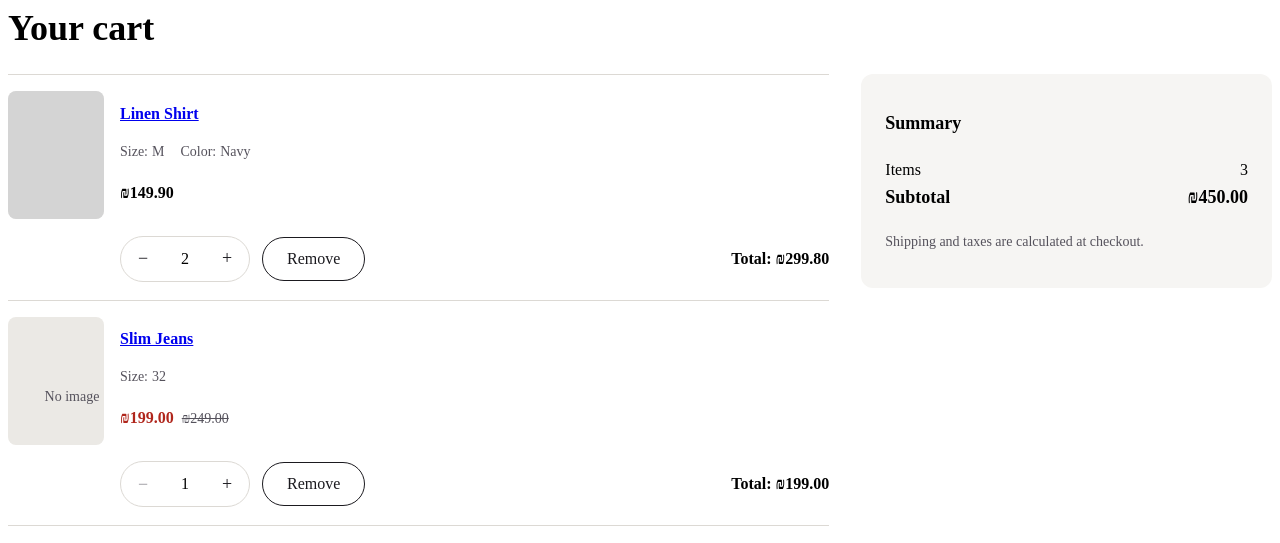
Test: CartPage › sends the absolute quantity when increasing or decreasing
Later steps or results of the test are not shown.
Expected: the list named "Cart items" is shown, [8, 74, 829, 526]
Click the button named "Increase quantity": point(227, 259) [205, 237, 249, 281]
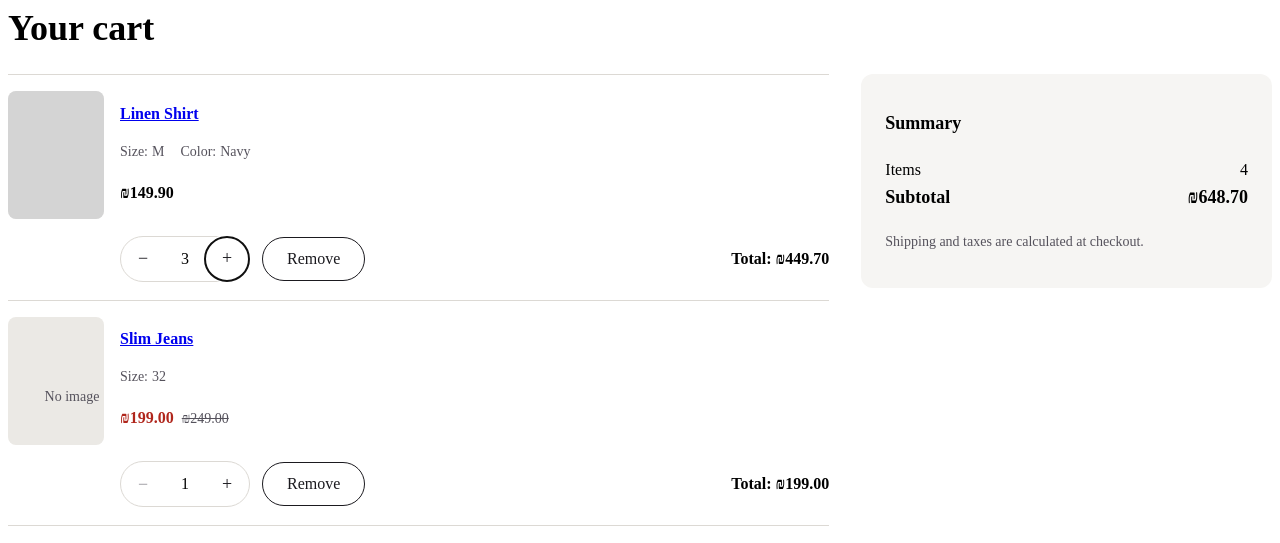
Now the element named "Quantity" shows "3", box [181, 250, 189, 267]
Now the text "Total: ₪449.70" is shown, box [731, 250, 829, 268]
Now the text "₪648.70" is shown, box [1188, 187, 1248, 208]
